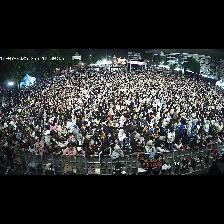person: (99, 145, 112, 169), (63, 143, 76, 157), (85, 142, 98, 156), (167, 128, 175, 150), (150, 123, 160, 140), (132, 141, 144, 155), (112, 146, 124, 159), (155, 140, 168, 152), (122, 121, 132, 136), (189, 127, 197, 145), (159, 123, 167, 141), (189, 136, 201, 148), (131, 134, 142, 147), (146, 140, 156, 154), (104, 132, 114, 146), (145, 132, 155, 146), (52, 143, 62, 156), (178, 120, 187, 134), (121, 143, 130, 157), (118, 129, 125, 147), (130, 120, 139, 133), (175, 139, 184, 152), (58, 138, 67, 151), (95, 135, 103, 149), (72, 125, 80, 139), (112, 138, 121, 150), (11, 140, 19, 153), (56, 131, 66, 141), (29, 141, 36, 155), (45, 130, 51, 146), (77, 133, 84, 146), (67, 117, 73, 132), (19, 141, 28, 151), (67, 138, 77, 147), (36, 137, 44, 148), (130, 130, 137, 142), (124, 138, 131, 150), (65, 129, 74, 138), (50, 121, 57, 132), (60, 125, 67, 135), (87, 135, 94, 145), (103, 122, 110, 132), (204, 120, 209, 133), (187, 124, 192, 137), (77, 147, 85, 155), (206, 135, 212, 145), (50, 138, 58, 145), (120, 116, 125, 127), (111, 130, 117, 138), (216, 135, 221, 142)
